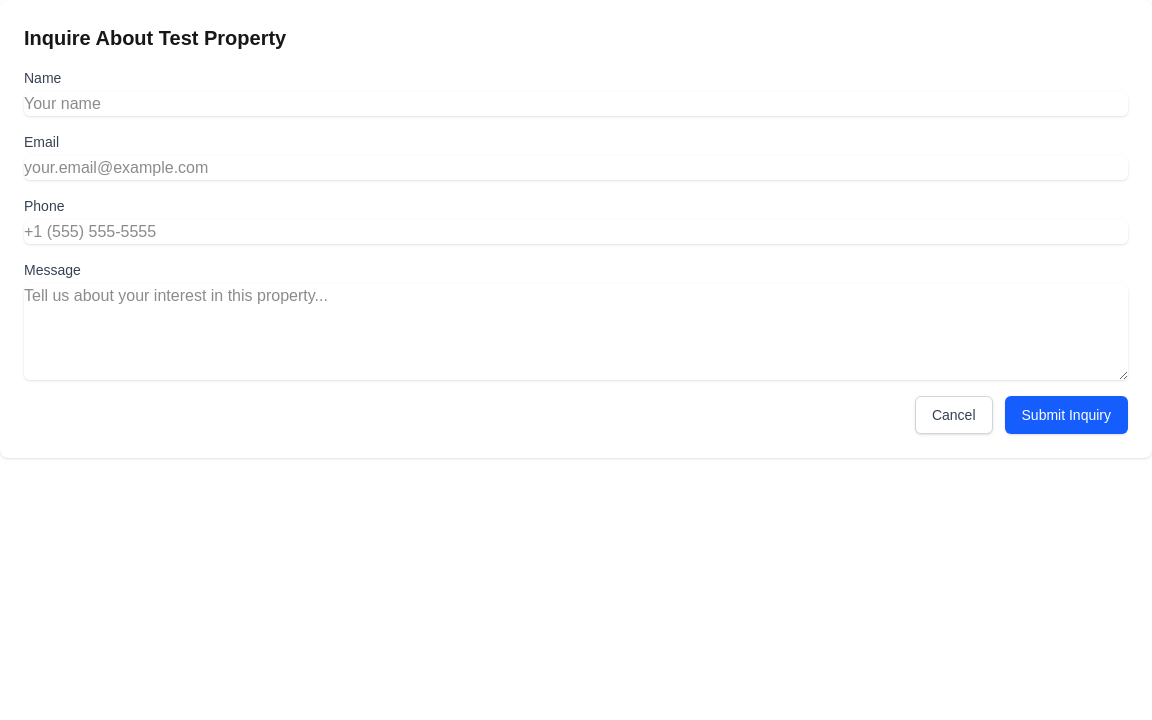
Test: InquiryForm › shows validation error for invalid phone
Type "John Doe" into the field labelled "Name" at (576, 104), box [24, 92, 1128, 116]
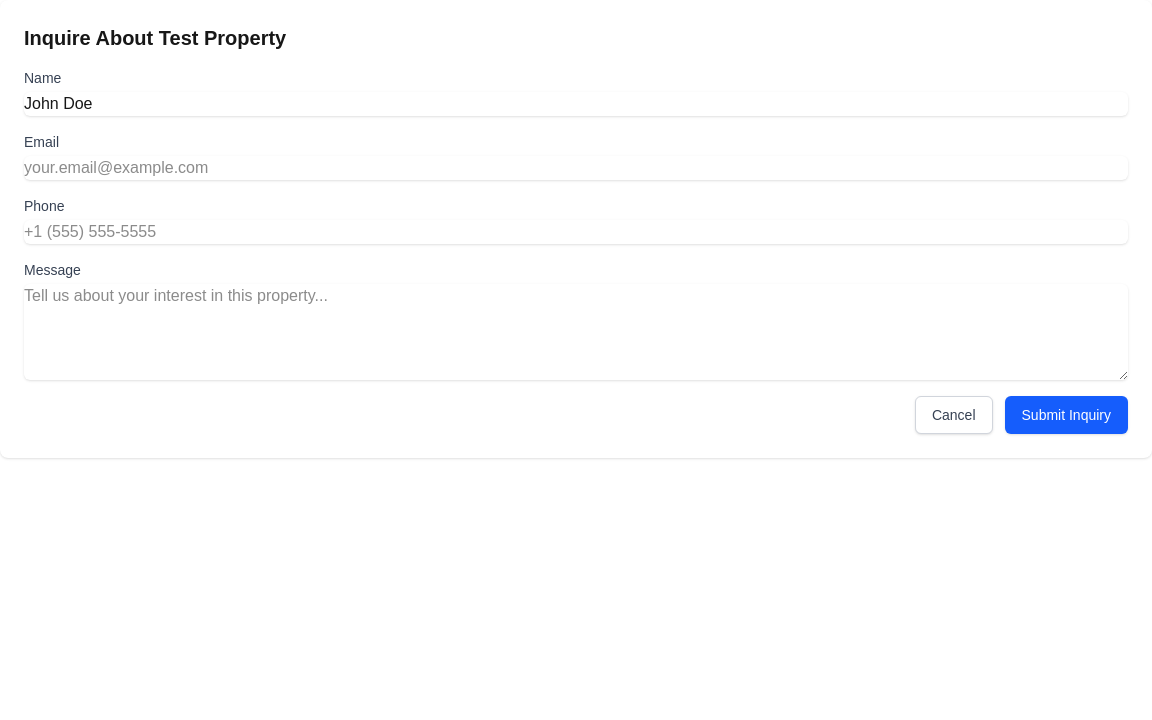
Type "john@example.com" into the field labelled "Email" at (576, 168), box [24, 156, 1128, 180]
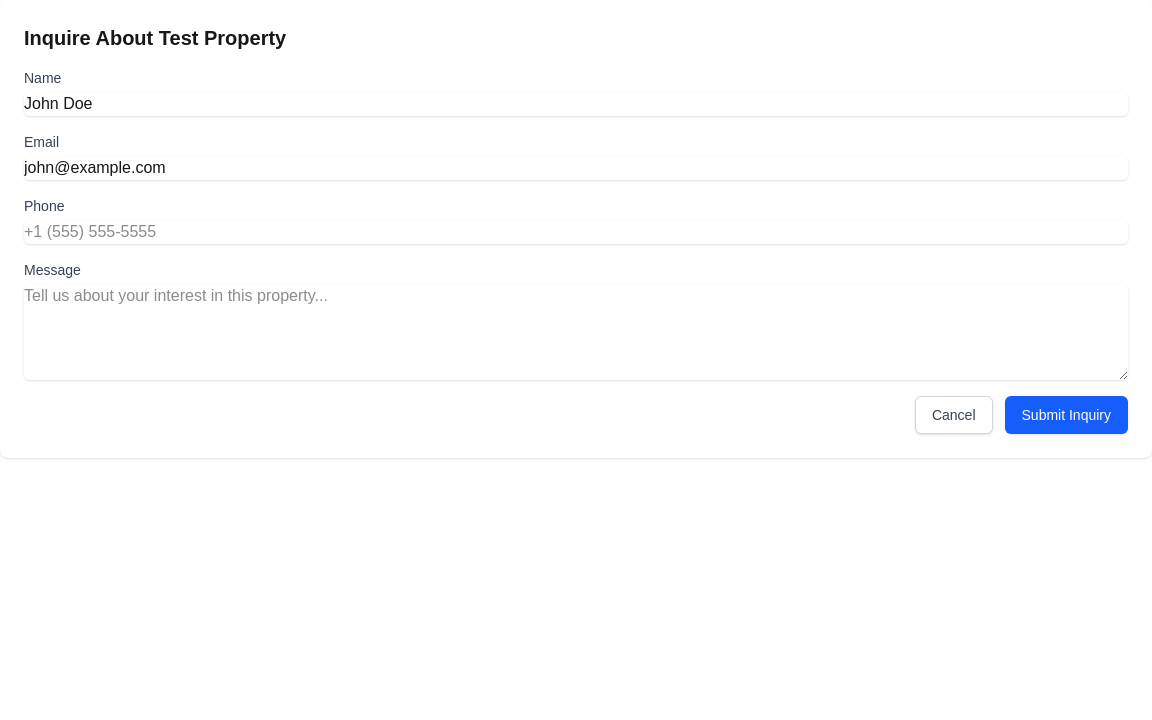
Type "abc" into the field labelled "Phone" at (576, 232), box [24, 220, 1128, 244]
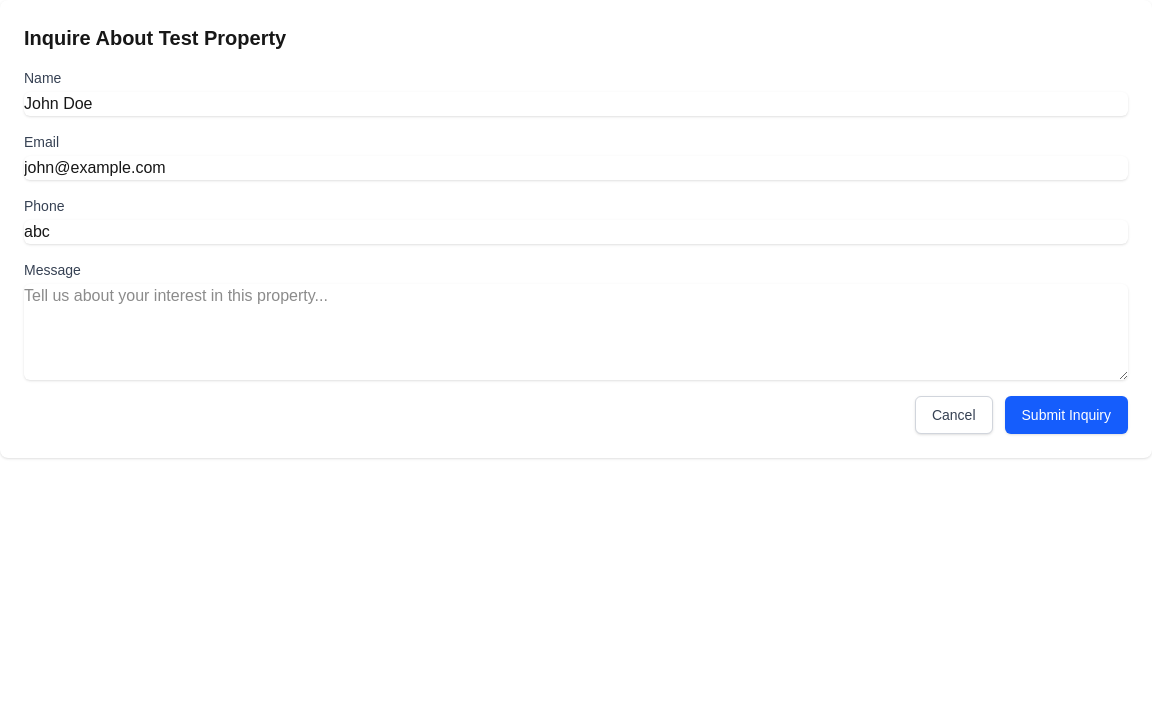
Type "Hello" into the text box labelled "Message" at (576, 332), box [24, 284, 1128, 380]
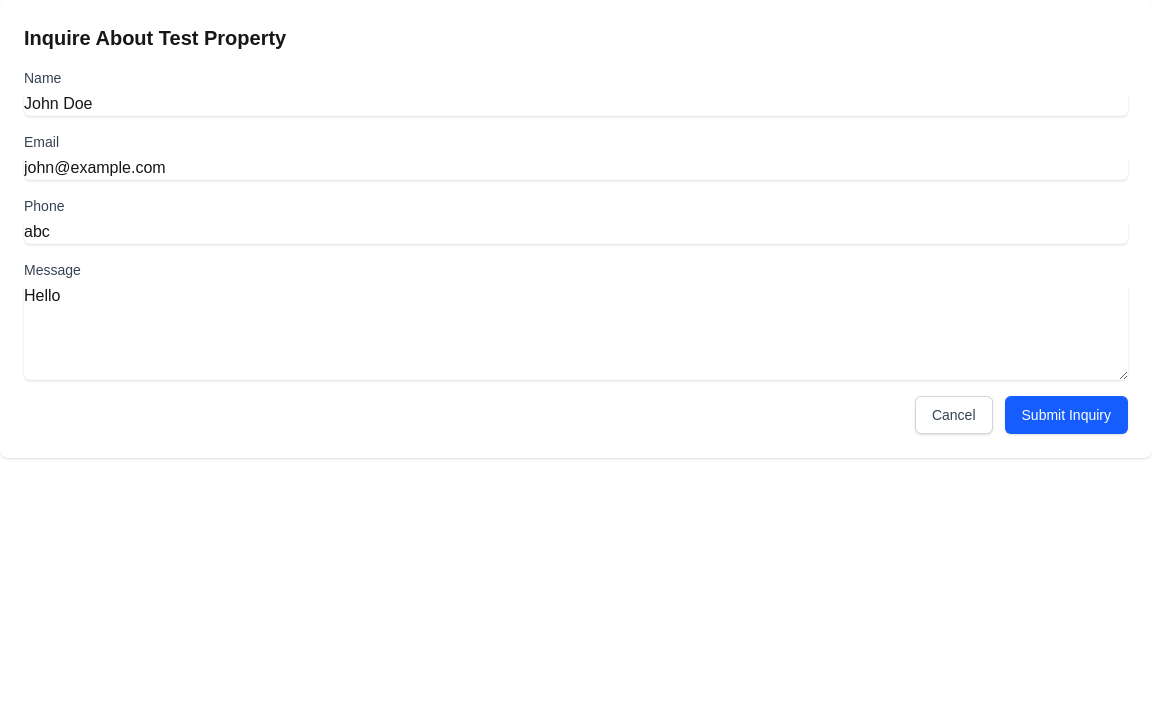
Submit the form with test id "inquiry-form", box [24, 68, 1128, 434]
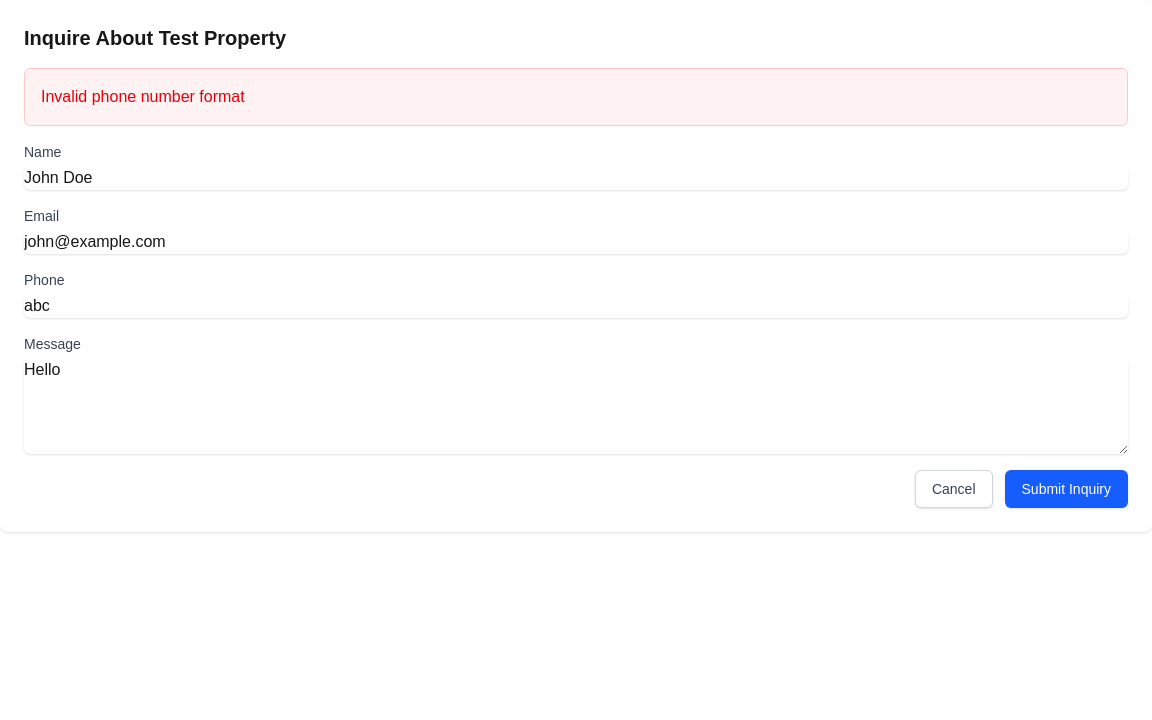
Now the text "Invalid phone number format" is shown, box [41, 88, 245, 105]
